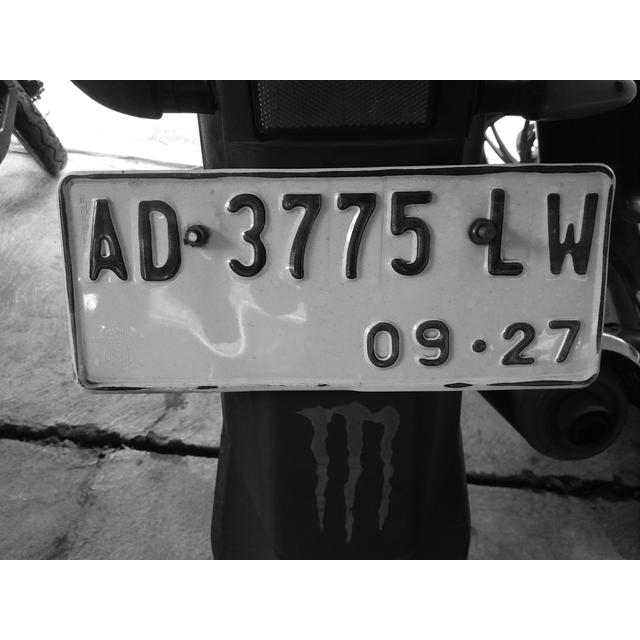license: (82, 185, 603, 374)
